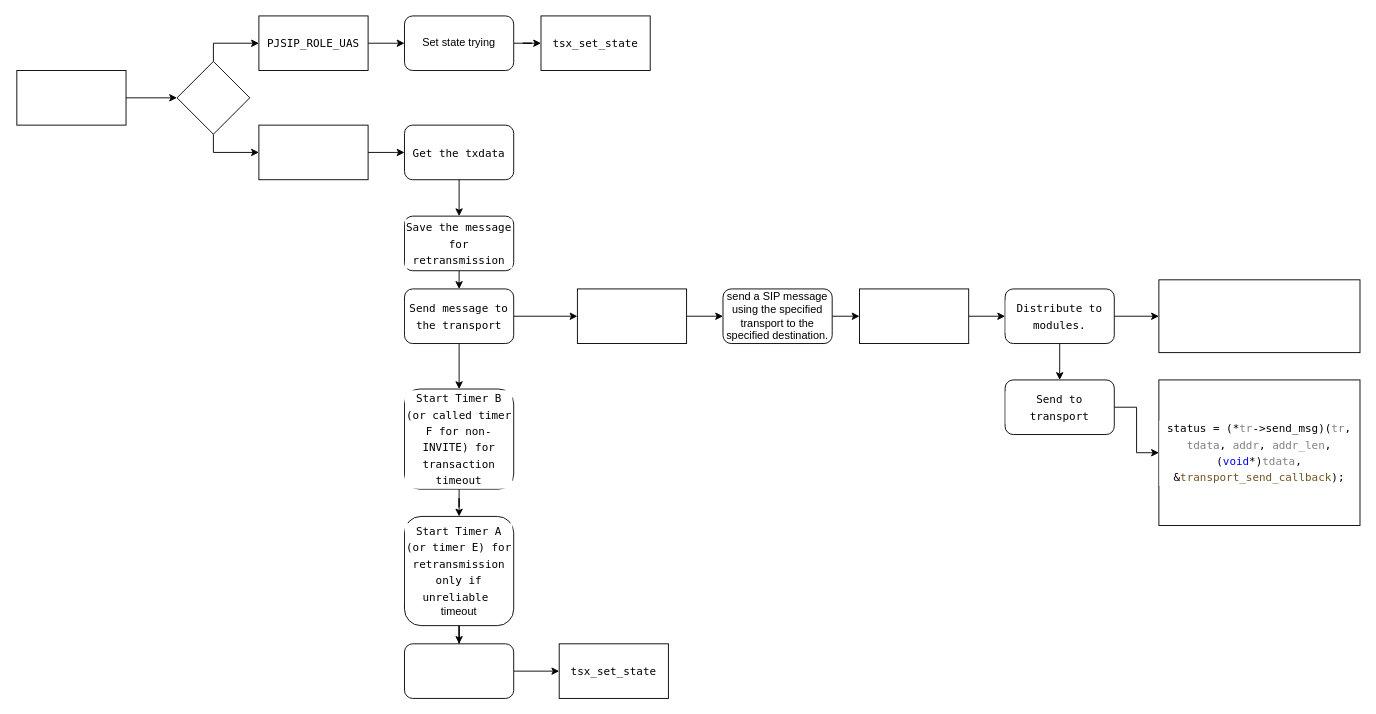
This 1376x714 diagram has some shape labels left out. The shapes that lost their labels are listed below. From the top down, each one's centre as x and y in pixels, then its label:
(71,97): tsx_on_state_null
(313,152): PJSIP_ROLE_UAC
(631,316): tsx_send_msg
(914,316): pjsip_transport_send
(1259,316): status = (* tr ->tpmgr->on_tx_msg)( tr ->endpt, tdata );
(459,670): Set state calling
